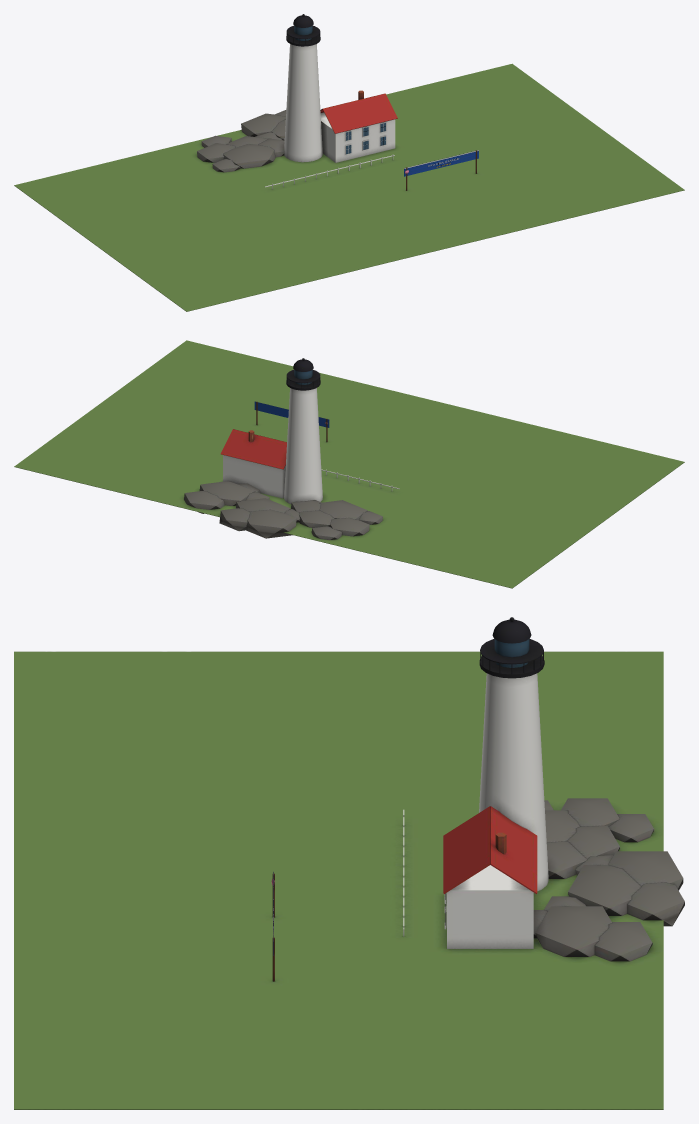
The model's file is faro_portland.glb.
3 views of the same model, one above another, from view 1: azimuth 30°, elevation 25°; view 2: azimuth 150°, elevation 25°; view 3: azimuth 270°, elevation 25° (orthographic). The views are drawn at different scales.
Visible parts, largest first — view 1: faro_portland; view 2: faro_portland; view 3: faro_portland.
Part boxes in pixels (x1=…): faro_portland: x1=14, y1=14, x2=684, y2=311; faro_portland: x1=14, y1=340, x2=684, y2=588; faro_portland: x1=14, y1=617, x2=684, y2=1109.
Size of the model in its own units: 100 by 29.1 by 61.98.
Materials: 1 (1 with a texture image).
